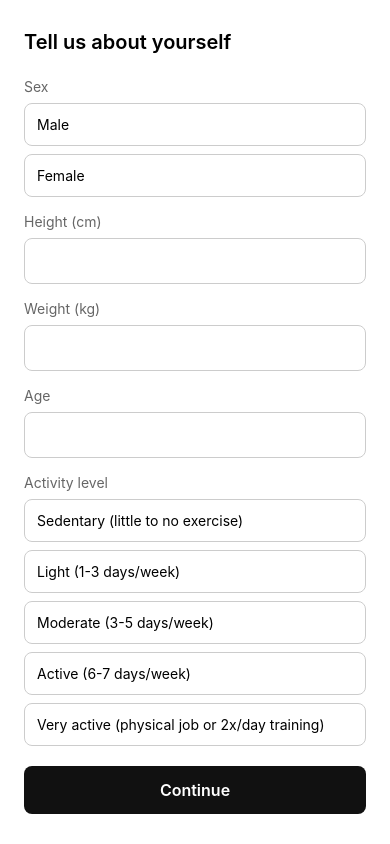
Scenario: BodyStatsScreen › rejects negative weight
This screenshot has width=390, height=844.
Click the element with test id "sex-option-female". click: (195, 176)
box: [24,154,366,197]
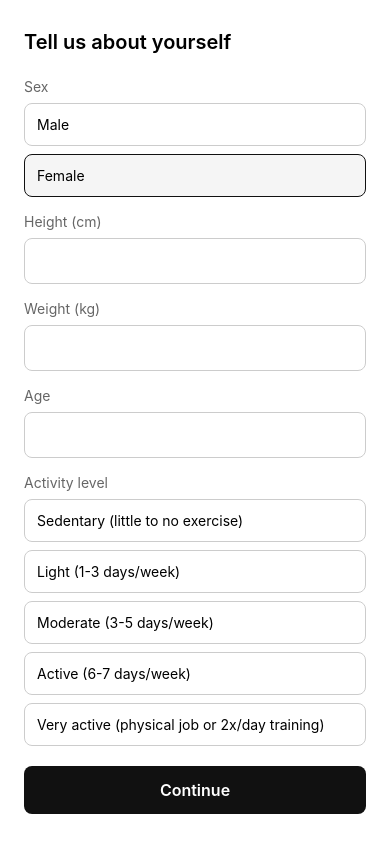
Type "170" into the field with test id "height-input". click: (195, 261)
box: [24,238,366,284]
Type "65" into the field with test id "weight-input". click: (195, 348)
box: [24,325,366,371]
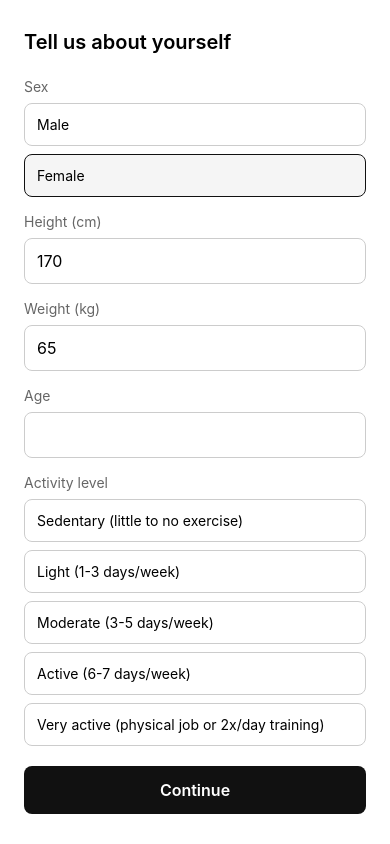
Type "35" into the field with test id "age-input". click: (195, 435)
box: [24,412,366,458]
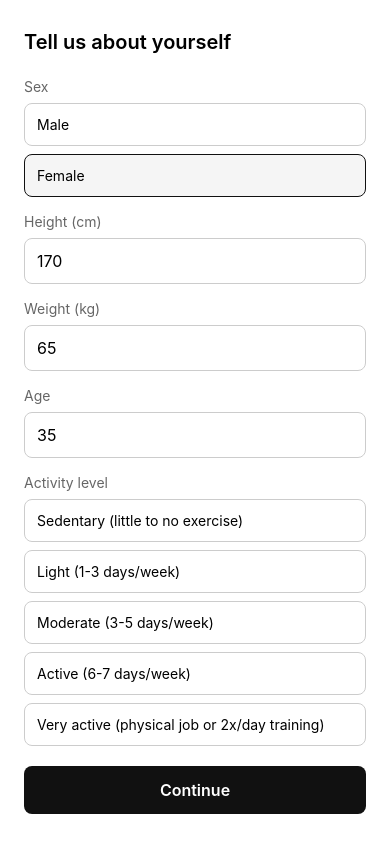
Click the element with test id "activity-level-option-moderate". click: (195, 622)
box: [24,601,366,644]
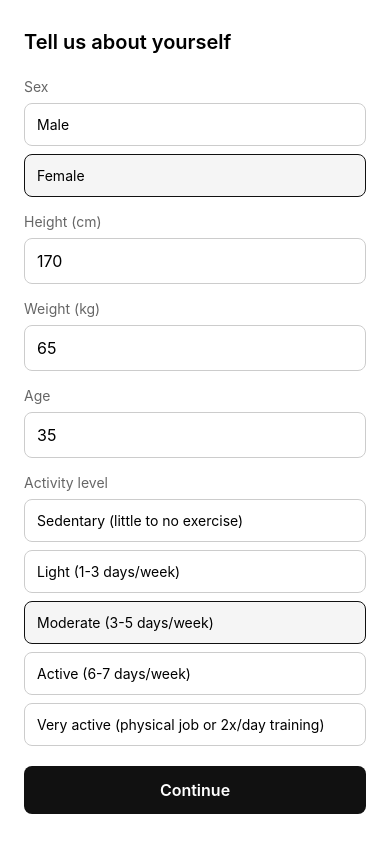
Replace the text in the field with test id "weight-input" with "-10". click: (195, 348)
box: [24,325,366,371]
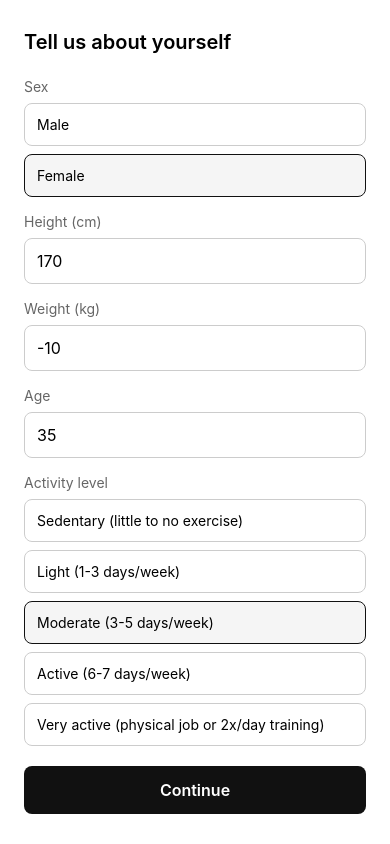
Click the element with test id "body-stats-continue-button". click: (195, 790)
box: [24,766,366,814]
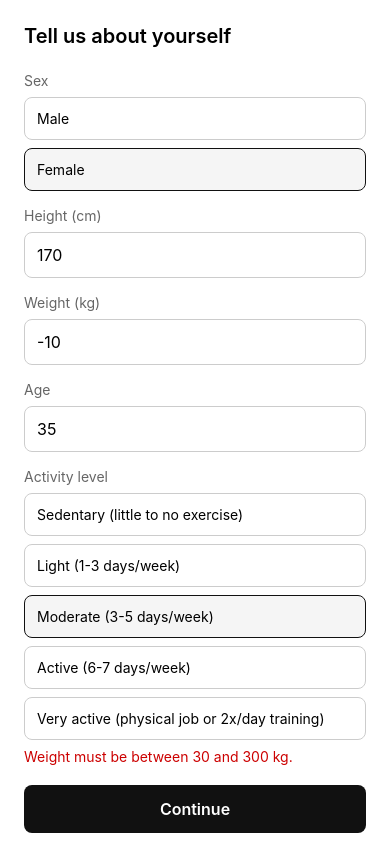
Expected: the text "Weight must be between 30 and 300 kg." is shown, [24,748,293,765]
